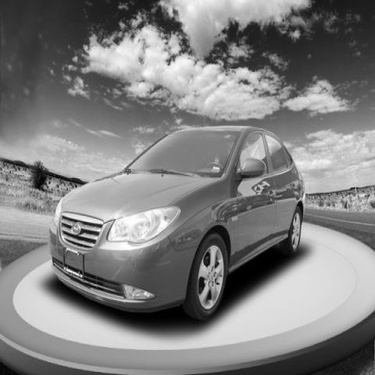car: (43, 114, 310, 330)
